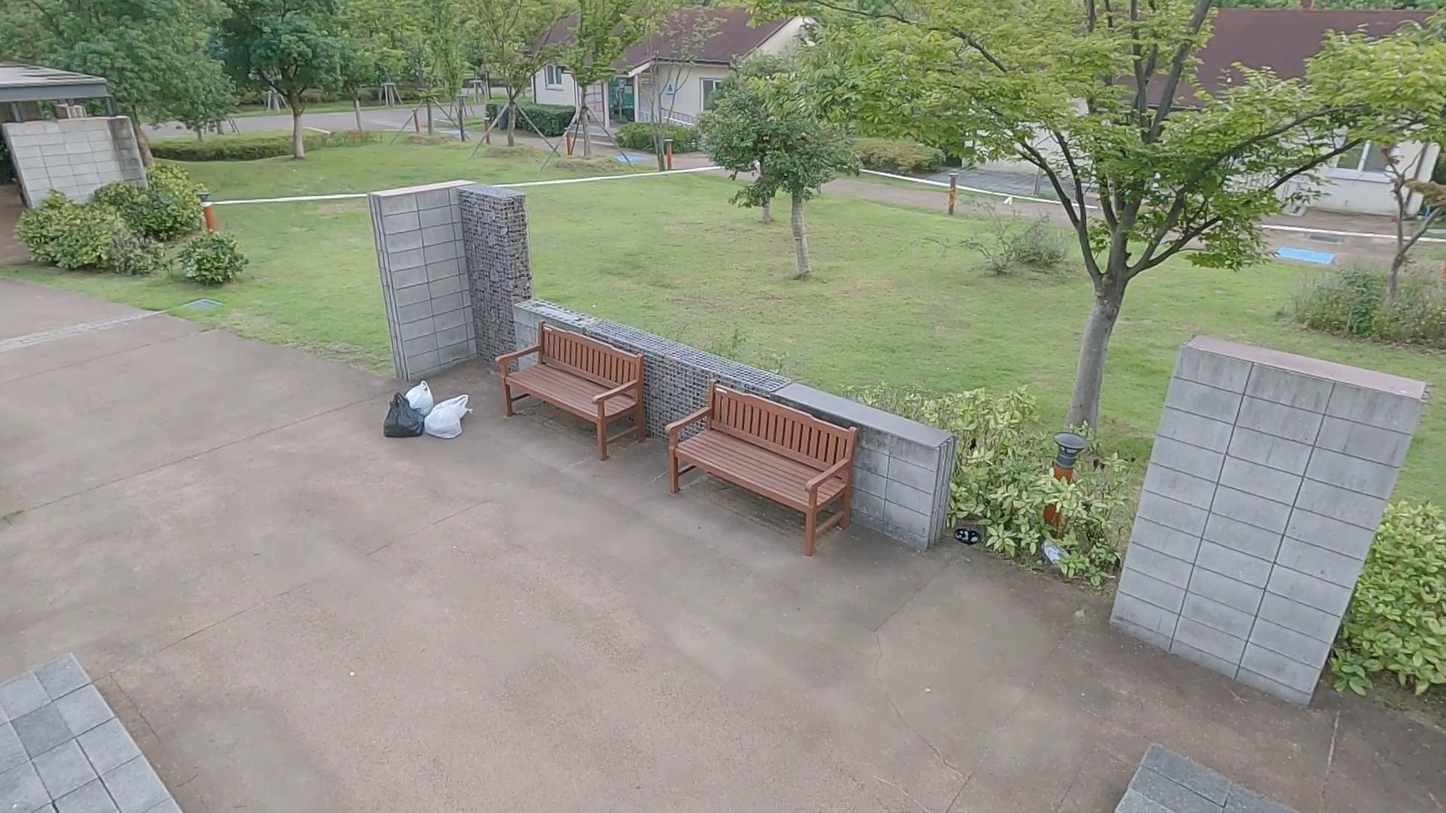trash: (381, 393, 425, 437), (419, 403, 465, 440), (428, 391, 474, 424), (405, 381, 436, 419)
